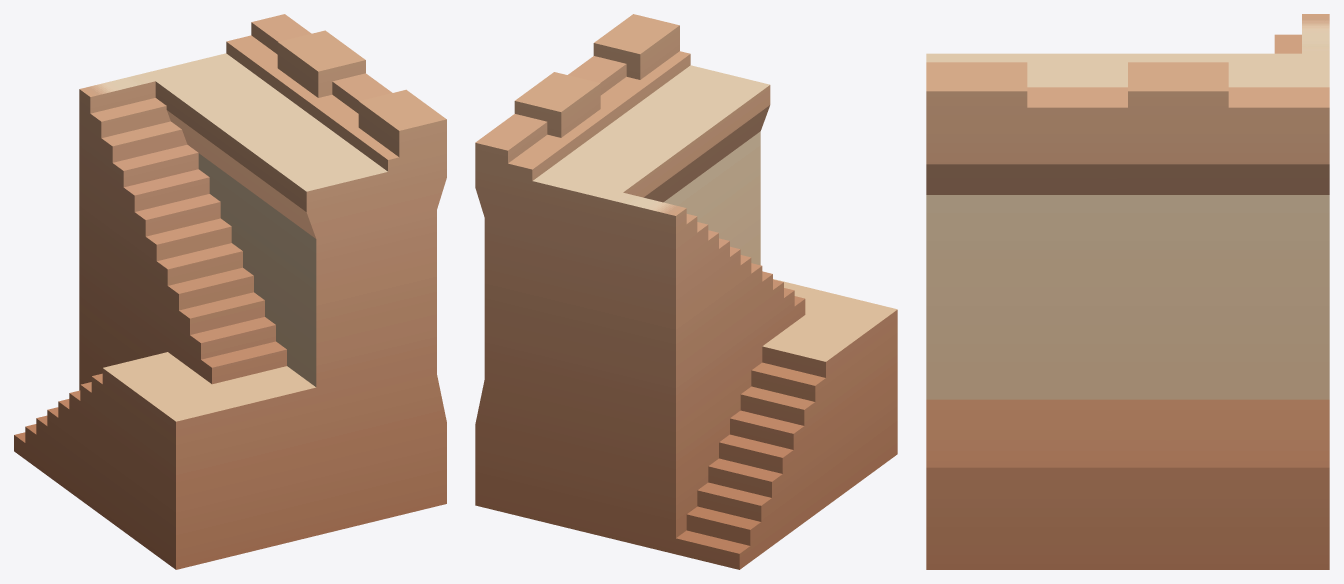
File: wall-narrow-stairs.glb
The picture shows the model from 3 angles, left to right: view 1: azimuth 30°, elevation 25°; view 2: azimuth 150°, elevation 25°; view 3: azimuth 270°, elevation 25°; orthographic projection. The views are drawn at different scales.
Parts seen in each view (by area): view 1: wall-narrow-stairs; view 2: wall-narrow-stairs; view 3: wall-narrow-stairs.
Boxes of the visible parts, left/top/right/bottom form: wall-narrow-stairs: left=14, top=14, right=446, bottom=569; wall-narrow-stairs: left=475, top=14, right=897, bottom=569; wall-narrow-stairs: left=926, top=14, right=1329, bottom=569.
Size of the model in its own units: 0.965 by 1.31 by 1.
Materials: 1 (1 with a texture image).
